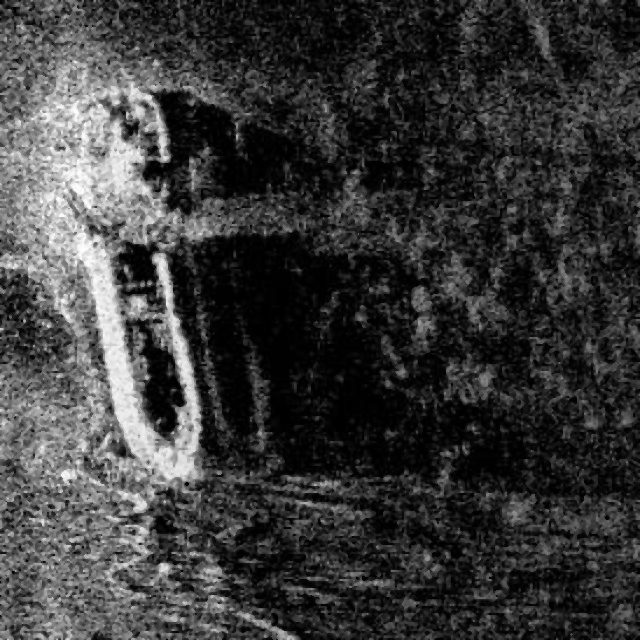Ship: (42, 72, 229, 498)
